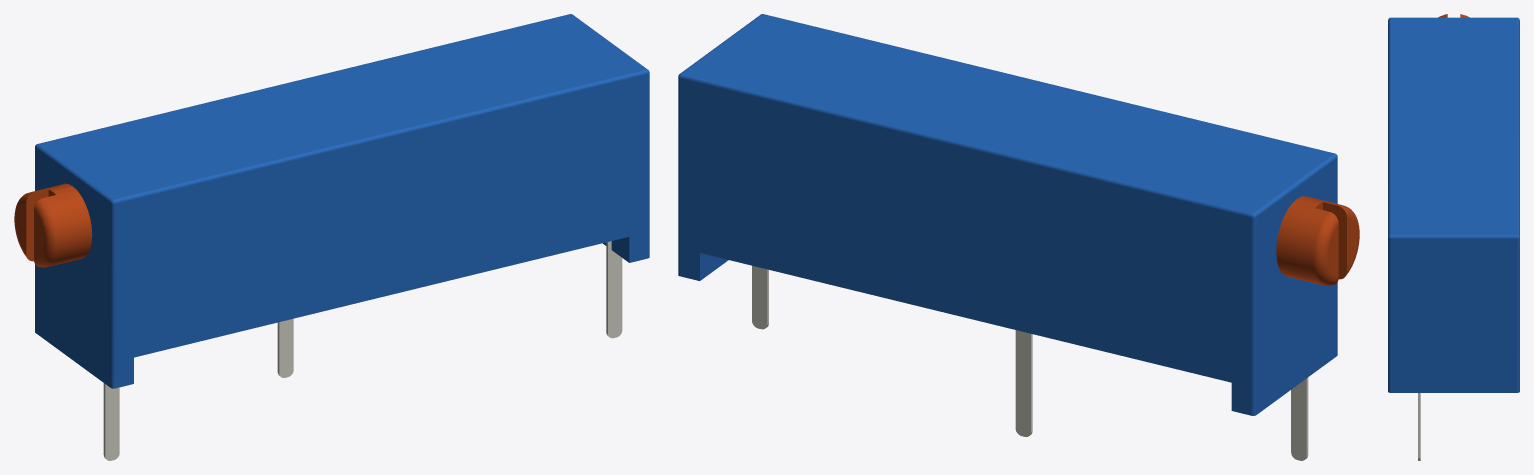
File: kc-potentiometer_bourns_3006y_horizontal.glb
3 views of the same model, side by side, from view 1: azimuth 30°, elevation 25°; view 2: azimuth 150°, elevation 25°; view 3: azimuth 270°, elevation 25° (orthographic). The views are drawn at different scales.
Visible parts, largest first — view 1: 0_0.16666666666666666_0.5_0, 0.4166666666666667_0.08333333333333333_0_0, 0.6666666666666666_0.6666666666666666_0.5833333333333334_0.8; view 2: 0_0.16666666666666666_0.5_0, 0.4166666666666667_0.08333333333333333_0_0, 0.6666666666666666_0.6666666666666666_0.5833333333333334_0.8; view 3: 0_0.16666666666666666_0.5_0, 0.6666666666666666_0.6666666666666666_0.5833333333333334_0.8.
Boxes of the visible parts, x1=… form: 0_0.16666666666666666_0.5_0: x1=35, y1=14, x2=649, y2=388; 0.4166666666666667_0.08333333333333333_0_0: x1=14, y1=183, x2=92, y2=267; 0.6666666666666666_0.6666666666666666_0.5833333333333334_0.8: x1=103, y1=241, x2=622, y2=460; 0_0.16666666666666666_0.5_0: x1=678, y1=14, x2=1337, y2=415; 0.4166666666666667_0.08333333333333333_0_0: x1=1276, y1=196, x2=1359, y2=285; 0.6666666666666666_0.6666666666666666_0.5833333333333334_0.8: x1=752, y1=265, x2=1308, y2=460; 0_0.16666666666666666_0.5_0: x1=1388, y1=17, x2=1519, y2=392; 0.6666666666666666_0.6666666666666666_0.5833333333333334_0.8: x1=1418, y1=393, x2=1420, y2=460.
Bounding box in the file's own units: 2.06 × 0.9349 × 0.4831.
